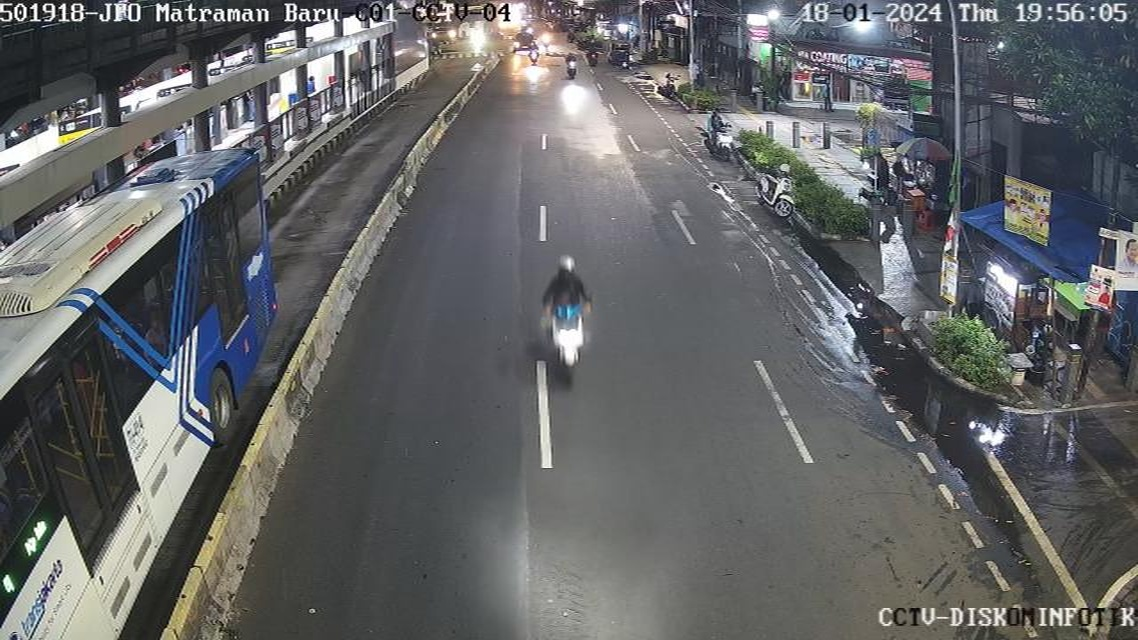Gerobak: (958, 257, 1046, 339)
